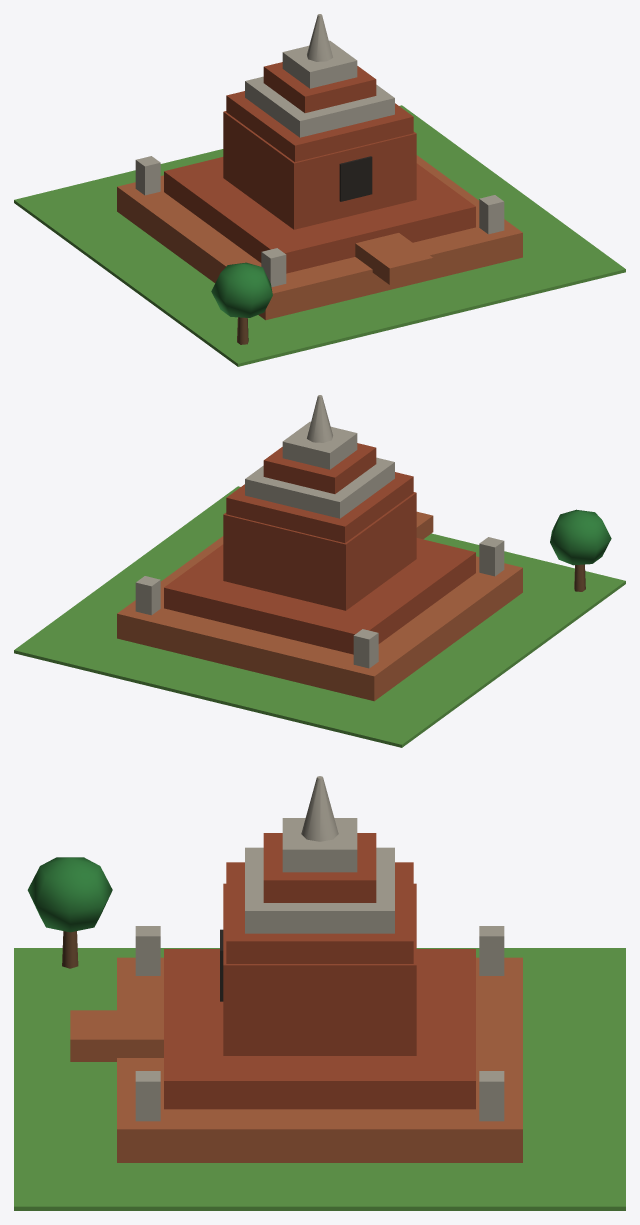
Rendered from building_candi.glb.
The picture shows the model from 3 angles, top to bottom: view 1: azimuth 30°, elevation 25°; view 2: azimuth 150°, elevation 25°; view 3: azimuth 270°, elevation 25°; orthographic projection. The views are drawn at different scales.
Visible parts, largest first — view 1: building_candi; view 2: building_candi; view 3: building_candi.
Part boxes in pixels (left/top/right/bottom): building_candi: left=14, top=14, right=625, bottom=366; building_candi: left=14, top=395, right=625, bottom=747; building_candi: left=14, top=776, right=625, bottom=1210.
Size of the model in its own units: 1.96 by 1.08 by 1.96.
